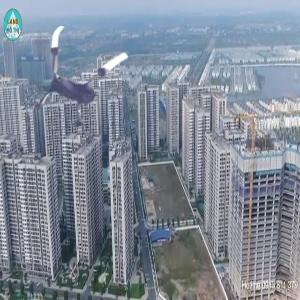drone: (20, 22, 140, 142)
